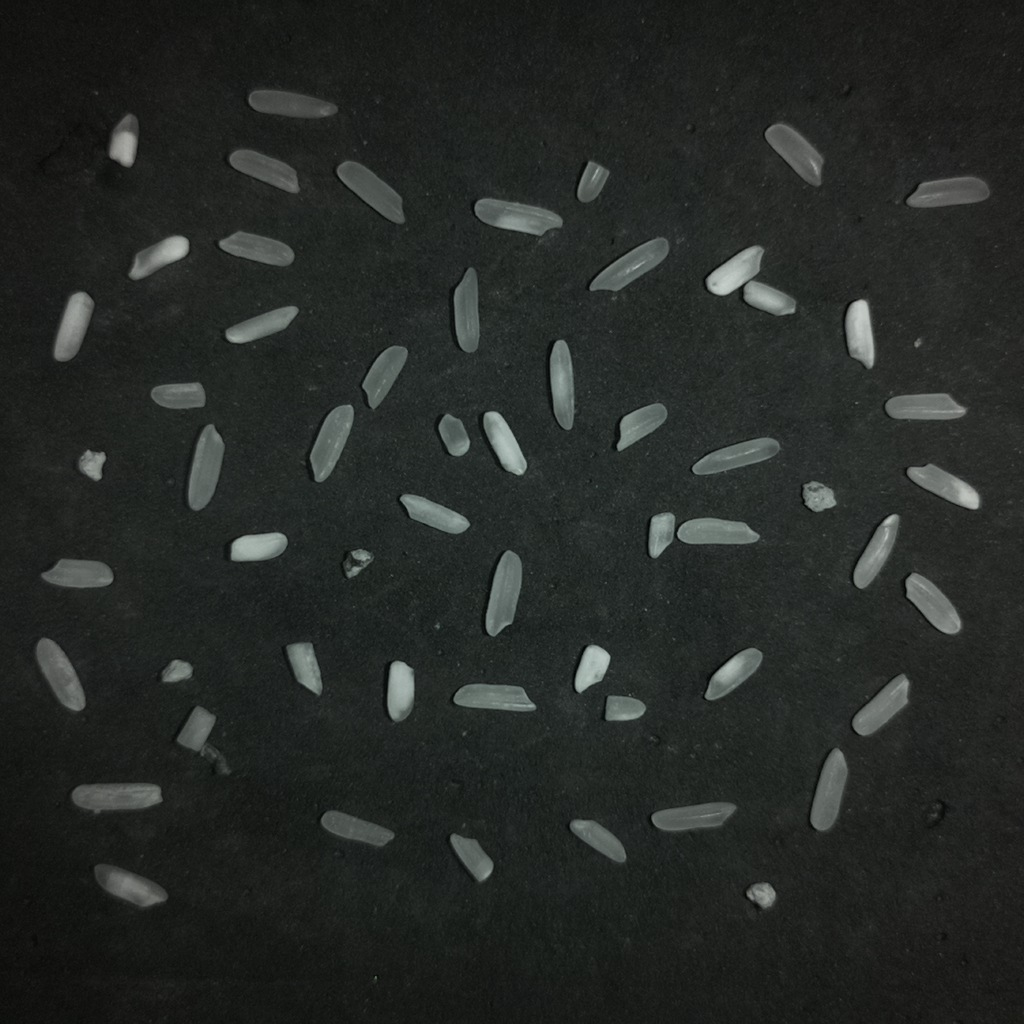broken: (150, 382, 205, 409), (576, 160, 609, 203), (437, 414, 469, 456)
chalky: (35, 638, 85, 711), (852, 673, 909, 735), (905, 572, 961, 634), (854, 514, 899, 588), (906, 464, 980, 509), (474, 198, 562, 235), (94, 864, 167, 908), (705, 245, 765, 296), (704, 648, 762, 700), (54, 291, 94, 361), (128, 235, 189, 280), (399, 494, 469, 533), (483, 411, 526, 474), (225, 306, 298, 343), (71, 783, 161, 812), (569, 819, 626, 863), (616, 403, 667, 451), (549, 339, 574, 429), (676, 517, 759, 544), (453, 684, 535, 711), (449, 833, 492, 882), (844, 299, 874, 368), (285, 642, 322, 695), (742, 280, 795, 315), (176, 706, 215, 751), (386, 661, 414, 722), (231, 531, 287, 561), (574, 644, 609, 692), (108, 113, 138, 167), (648, 512, 675, 557), (604, 695, 645, 721)
foreign: (802, 481, 836, 511), (77, 449, 106, 481), (342, 549, 373, 578), (746, 882, 776, 909), (161, 659, 193, 682)
whole: (336, 161, 405, 223), (589, 238, 668, 291), (764, 123, 823, 186), (309, 405, 353, 482), (691, 437, 779, 474), (187, 424, 224, 510), (228, 149, 299, 193), (485, 550, 521, 636), (810, 748, 847, 830), (362, 345, 407, 409), (320, 810, 394, 847), (218, 231, 293, 266), (905, 176, 989, 207), (248, 89, 337, 118), (651, 802, 735, 831), (453, 267, 479, 352), (41, 558, 113, 588), (884, 393, 966, 419)
